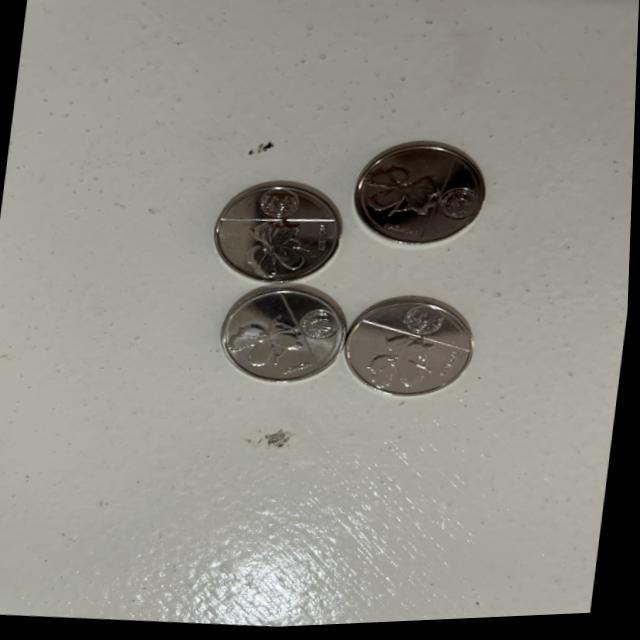25Cent_New_Back: (368, 163, 445, 234), (236, 224, 314, 285), (225, 315, 301, 372), (373, 337, 441, 395)
